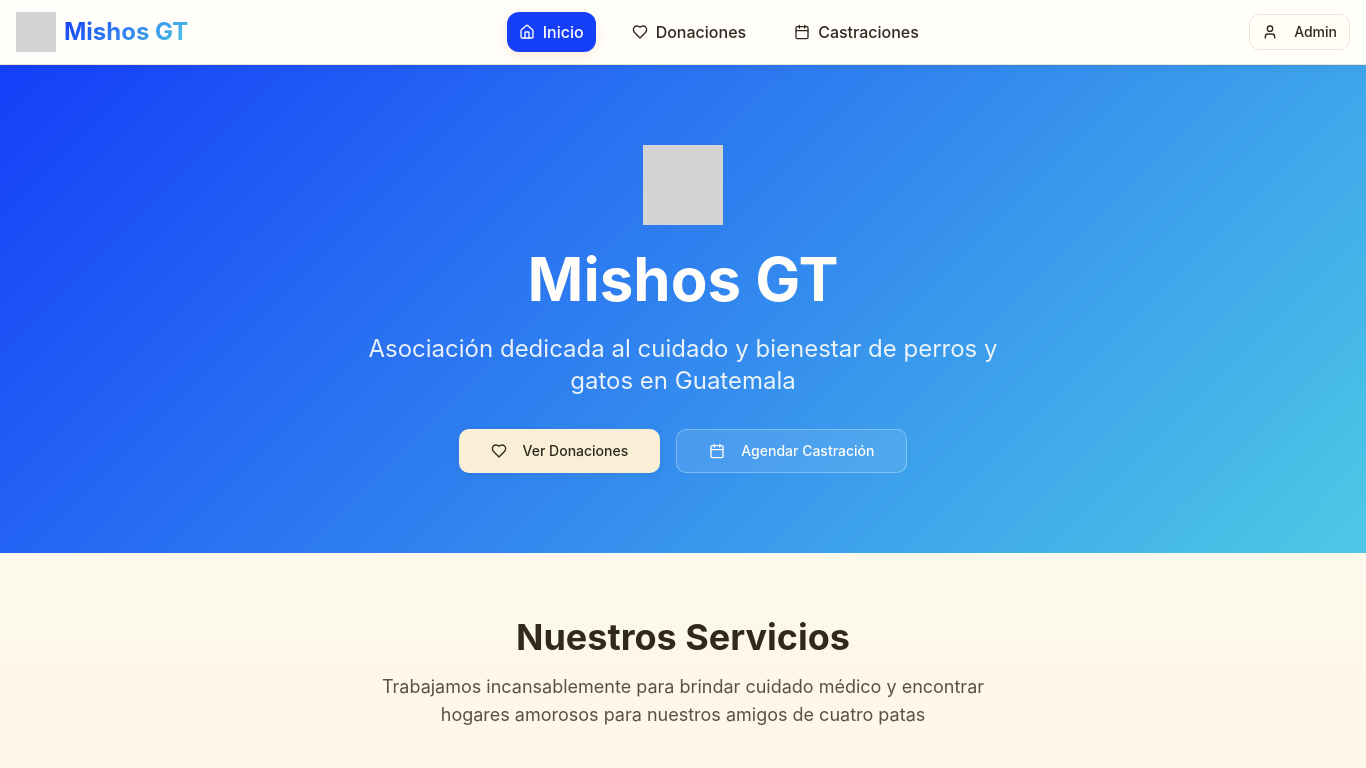
Test case: Home (integration) › navega a "/castrations" al hacer click en "Agendar Castración"
The width and height of the screenshot is (1366, 768).
Click the button with test id "cta-castrations": point(792, 451) [676,429,908,473]
(page scrolled)
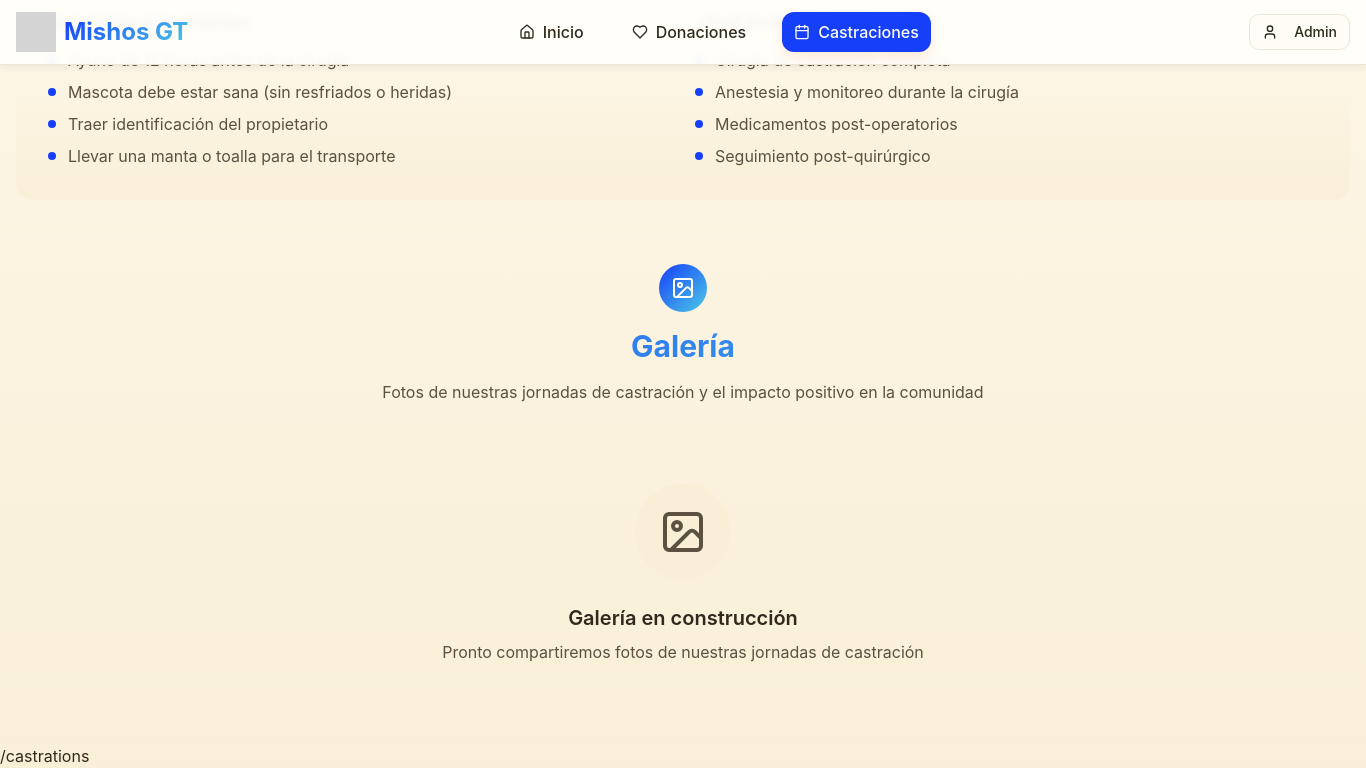
Result: the text with test id "pathname" reads "/castrations" at [0,746,89,766]
